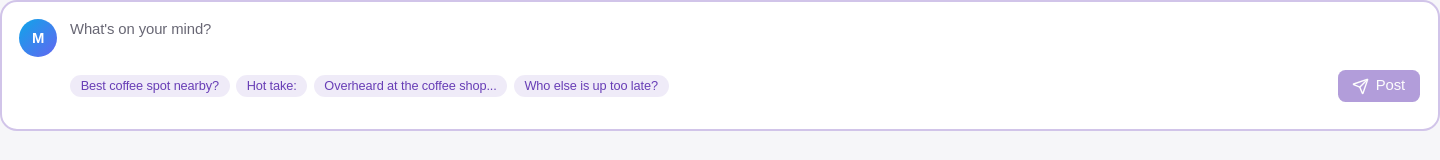
Test: BanterComposer › keeps Post disabled until there is text, and shows the characters left
Expected: the button "Post" is disabled, [1336, 69, 1421, 103]
In the text box labelled "What's on your mind?": (746, 40) [70, 19, 1421, 62], type "Hello people"
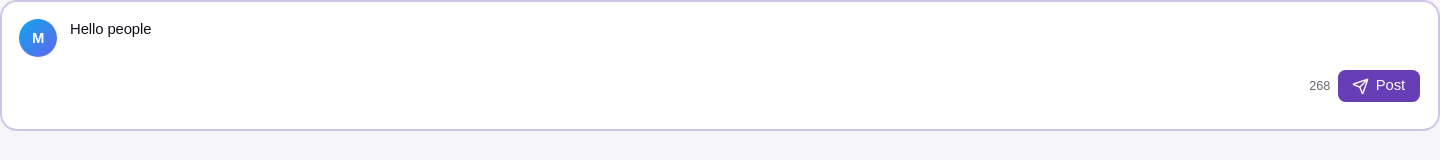
Result: the button "Post" is enabled at [1336, 69, 1421, 103]
Result: the text "268" is shown at [1309, 78, 1330, 94]
